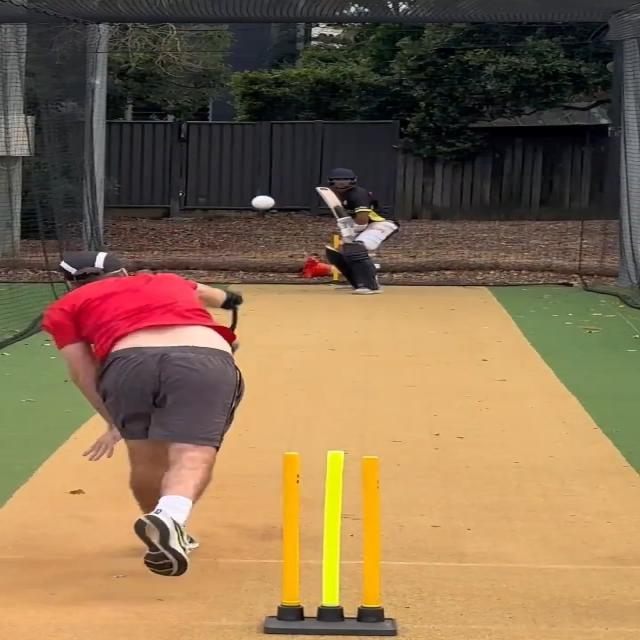ball: (248, 193, 278, 213)
stump: (262, 448, 399, 640)
